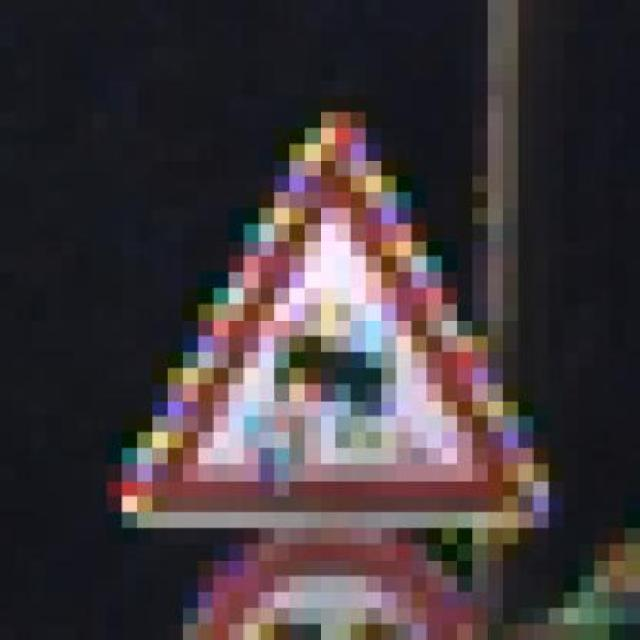Slippery Road Ahead: (91, 96, 564, 529)
